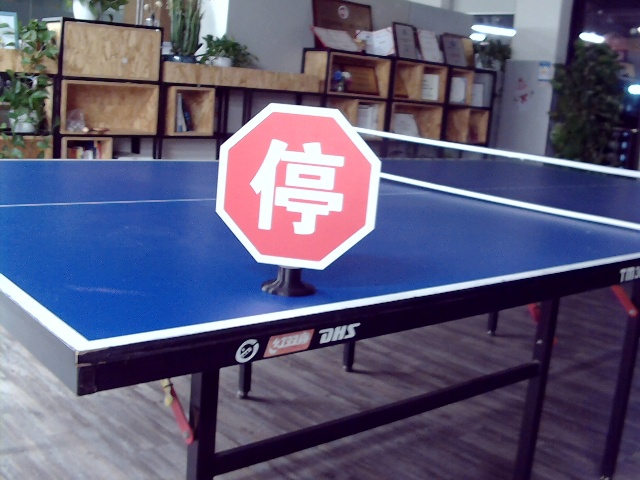stop: (249, 138, 347, 234)
